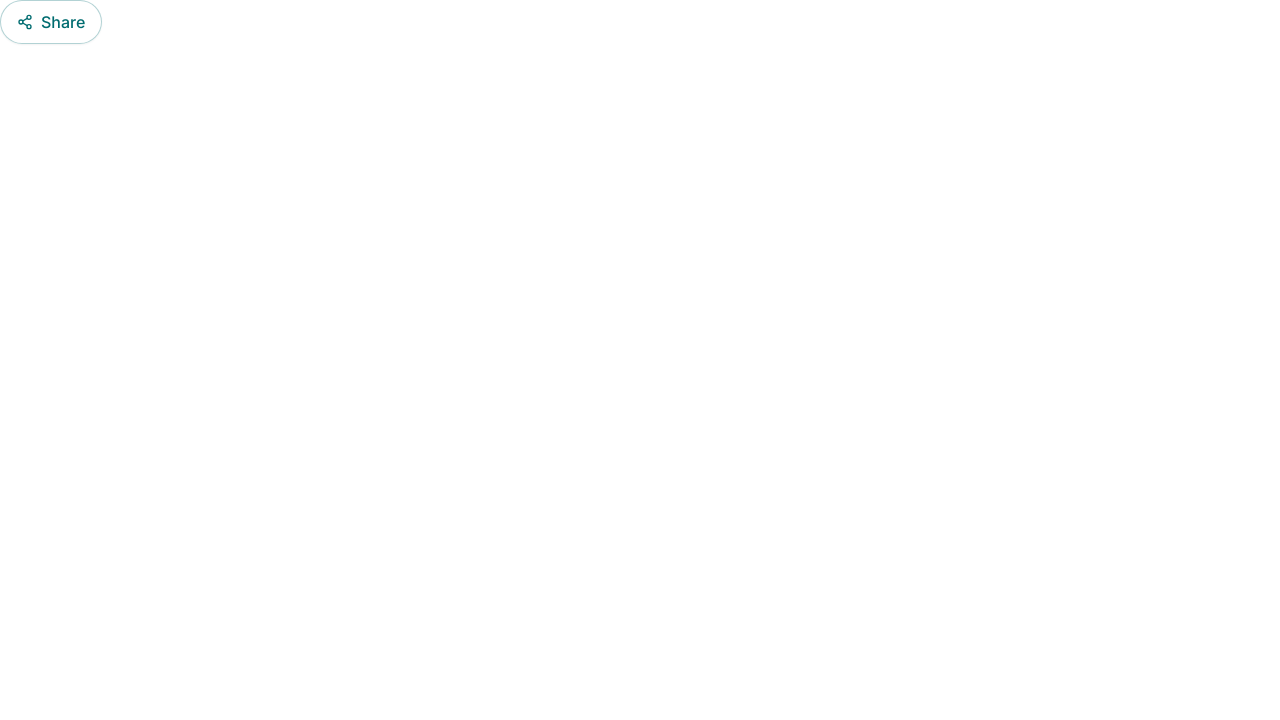
Test: PageShareButton › falls back to manual copy guidance when clipboard access fails
Click the button with aria-label "share page" at (51, 22), box [0, 0, 102, 44]
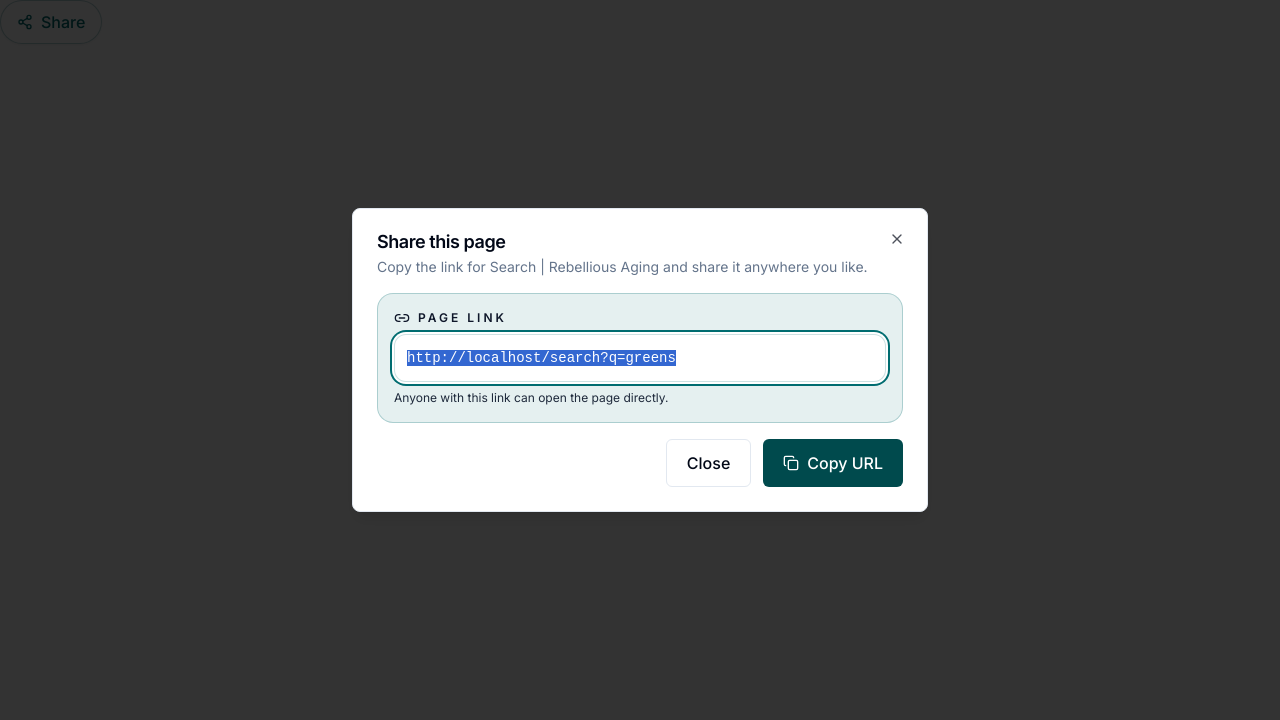
Click the button "Copy URL" at (833, 463), box [763, 439, 903, 487]
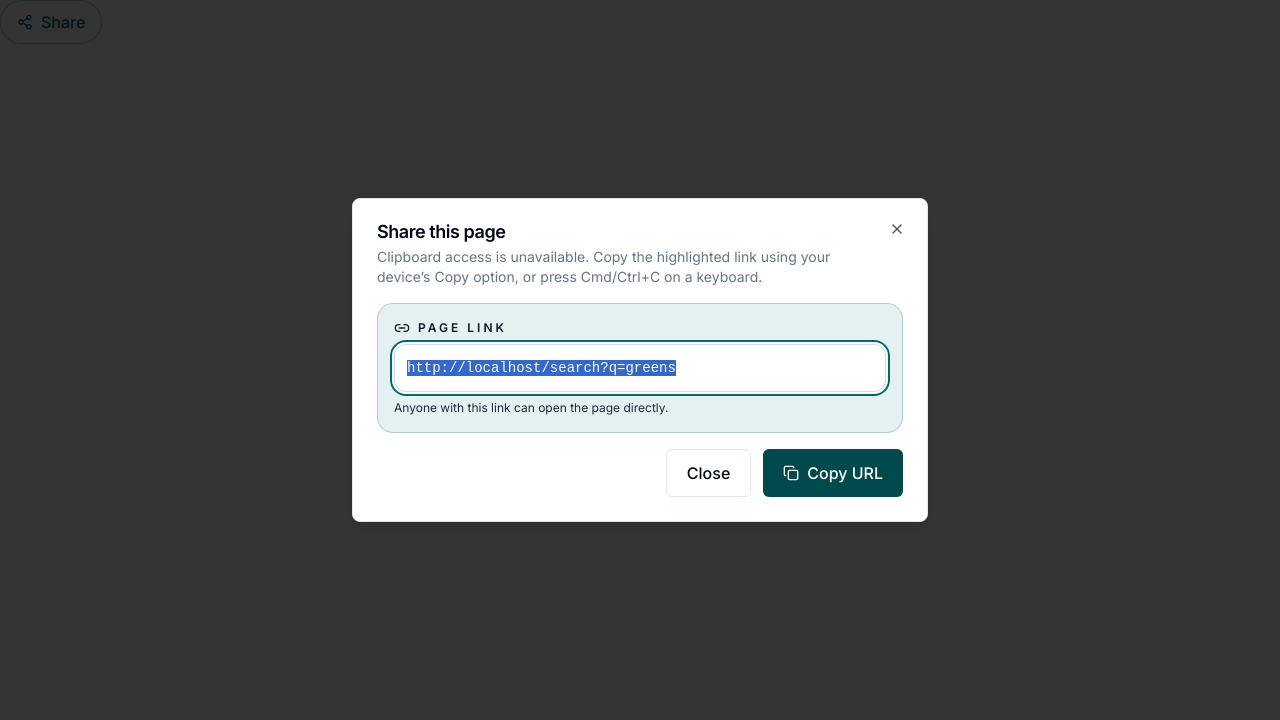
Check: the text "Clipboard access is unavailable" is shown, box [377, 248, 830, 285]
